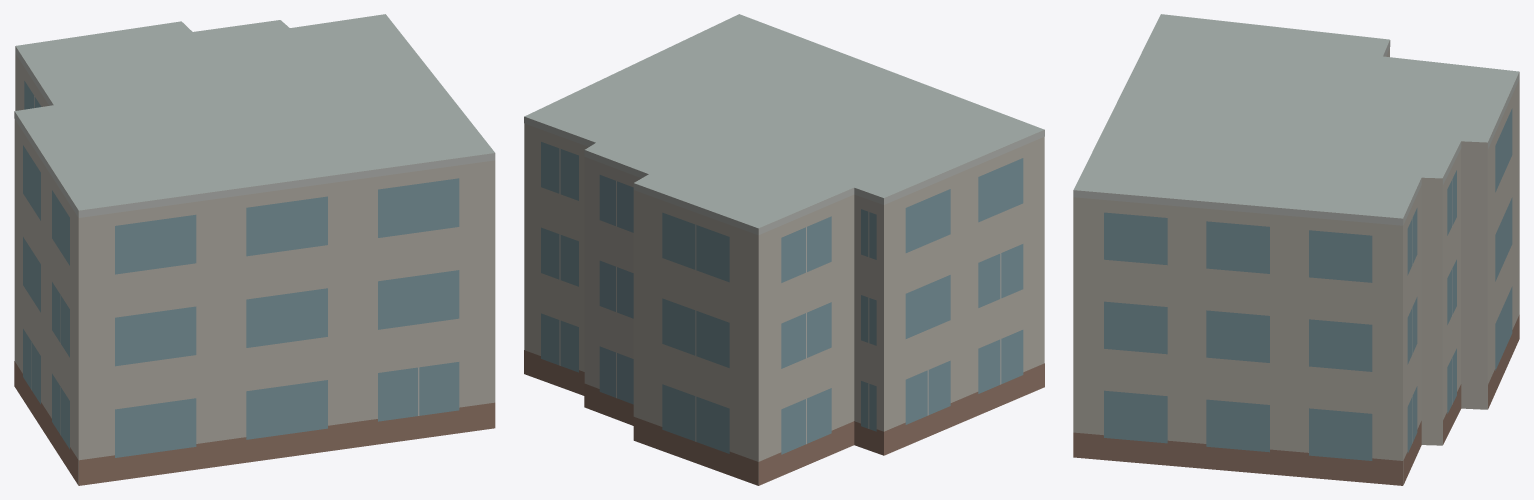
File: survey-upis-32670275.glb
The picture shows the model from 3 angles, left to right: view 1: azimuth 30°, elevation 25°; view 2: azimuth 150°, elevation 25°; view 3: azimuth 270°, elevation 25°; orthographic projection. The views are drawn at different scales.
Visible parts, largest first — view 1: survey-upis-32670275.tmp; view 2: survey-upis-32670275.tmp; view 3: survey-upis-32670275.tmp.
Part boxes in pixels (x1=…): survey-upis-32670275.tmp: x1=14, y1=14, x2=495, y2=485; survey-upis-32670275.tmp: x1=524, y1=14, x2=1044, y2=485; survey-upis-32670275.tmp: x1=1073, y1=14, x2=1519, y2=485.
Bounding box in the file's own units: 14.95 × 9.1 × 13.78.
